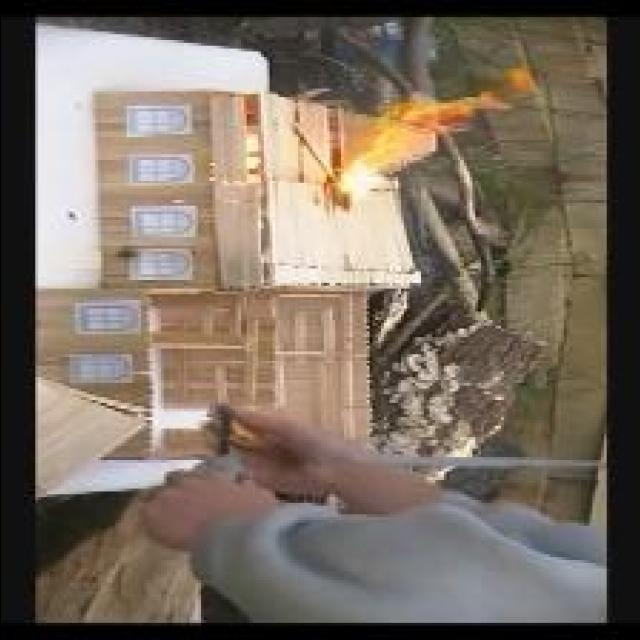Fire: (340, 66, 534, 203)
